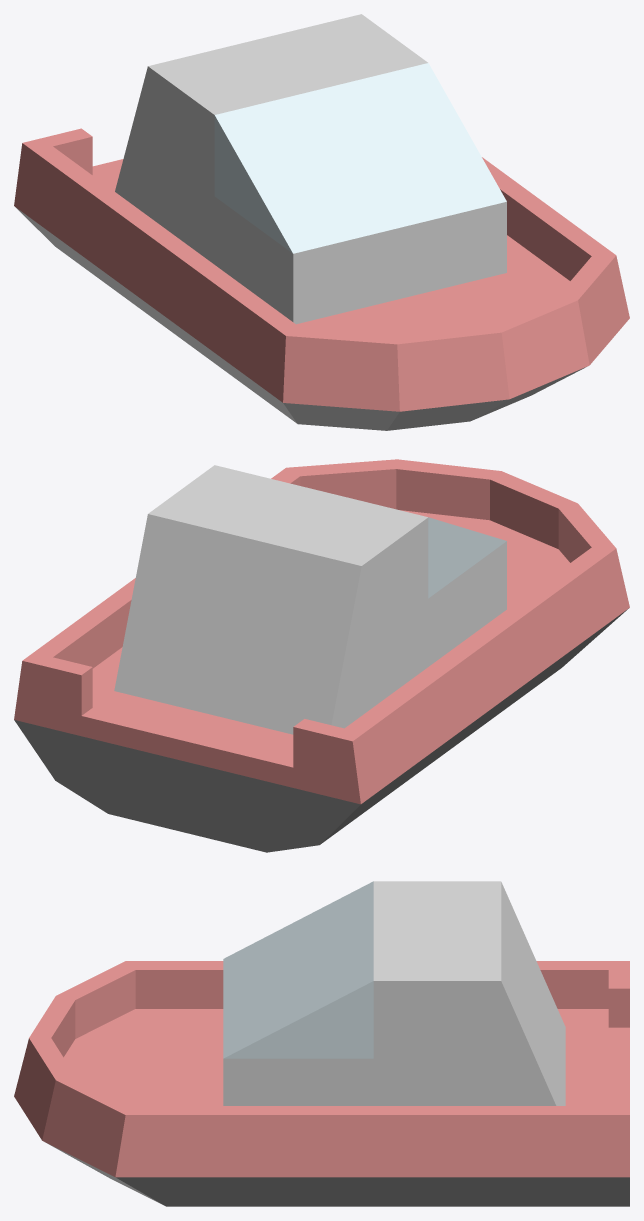
The model's file is boat_009.glb.
3 views of the same model, one above another, from view 1: azimuth 30°, elevation 25°; view 2: azimuth 150°, elevation 25°; view 3: azimuth 270°, elevation 25° (orthographic). The views are drawn at different scales.
Parts seen in each view (by area): view 1: boat_009; view 2: boat_009; view 3: boat_009.
Part boxes in pixels (left/top/right/bottom): boat_009: left=14, top=14, right=629, bottom=430; boat_009: left=14, top=459, right=629, bottom=852; boat_009: left=14, top=881, right=629, bottom=1206.
Bounding box in the file's own units: 1.78 × 1.2 × 2.87.
